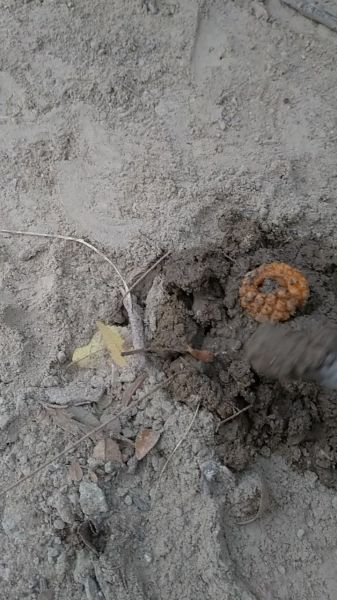eggs: (240, 254, 313, 330)
